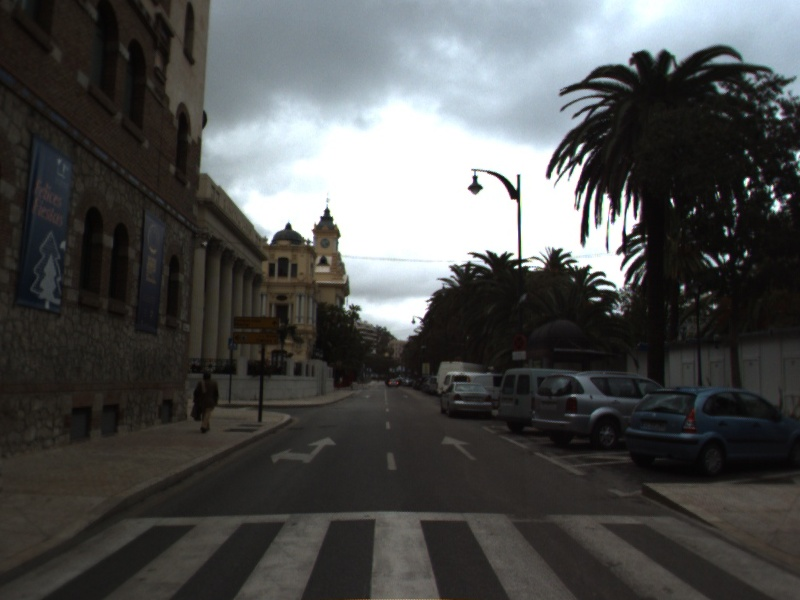STRAIGHT: (439, 434, 479, 462)
STRAIGHT_LEFT: (268, 435, 339, 465)
